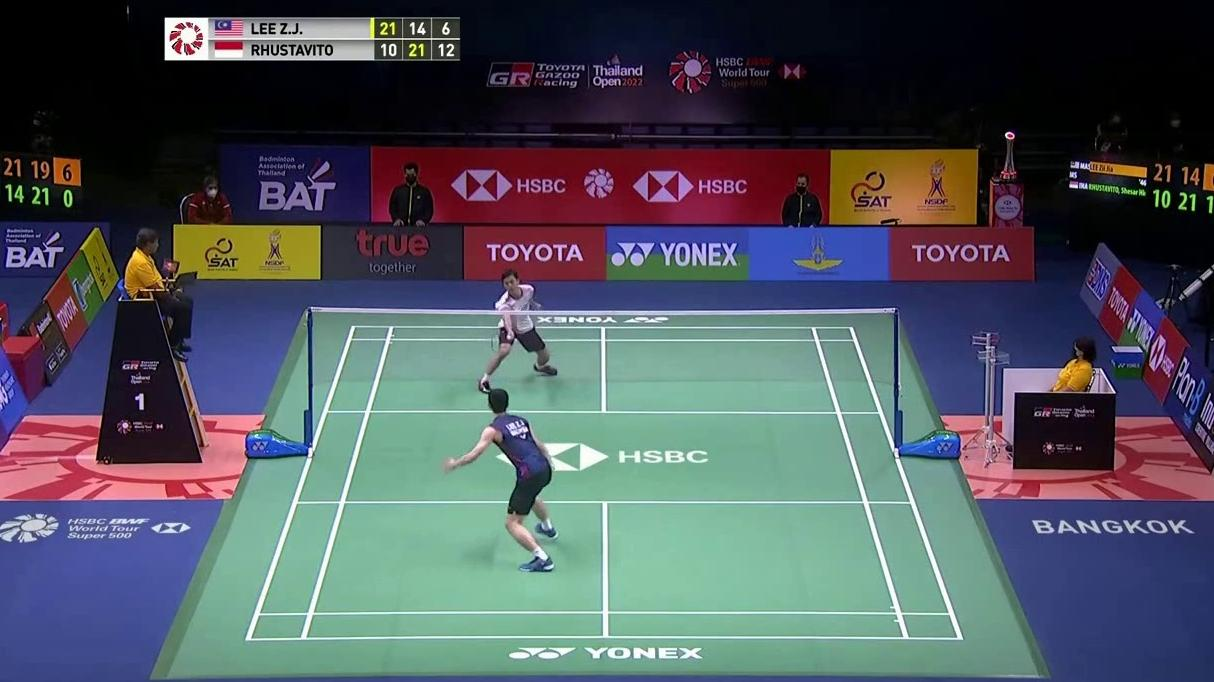racket: (491, 332, 514, 353)
shuttle: (496, 304, 504, 311)
